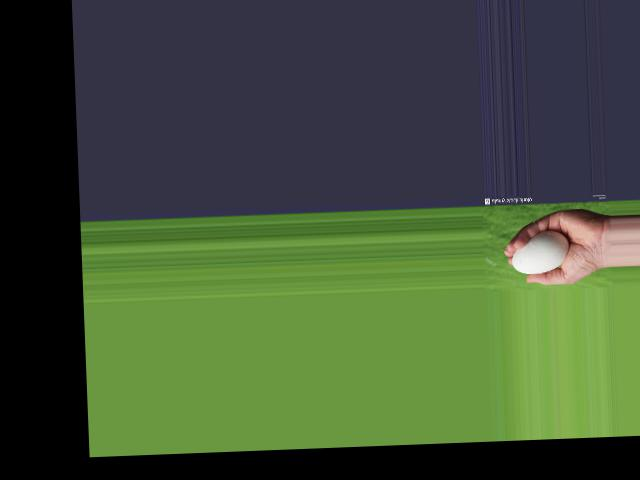egg: (511, 229, 571, 274)
